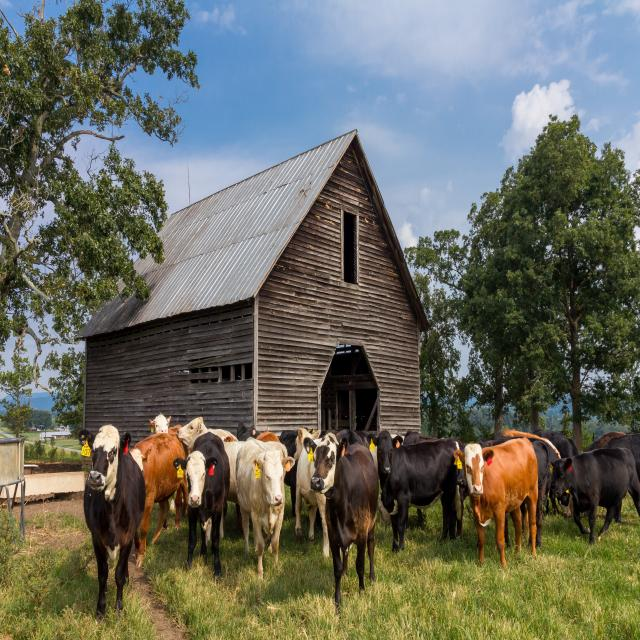cow: (456, 422, 550, 580), (539, 420, 640, 562), (78, 420, 158, 591), (372, 413, 469, 550), (300, 424, 383, 556), (116, 413, 186, 546), (232, 424, 295, 559), (172, 422, 233, 539)
tree: (4, 26, 128, 431), (499, 154, 620, 454)
